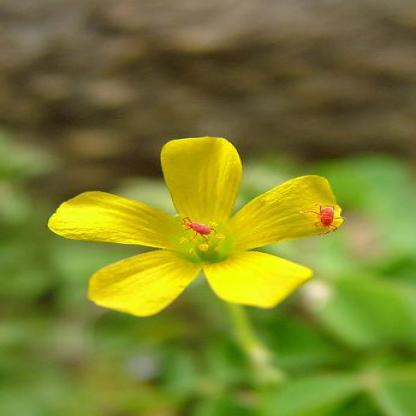aphid: (306, 201, 347, 235), (177, 213, 213, 241)
